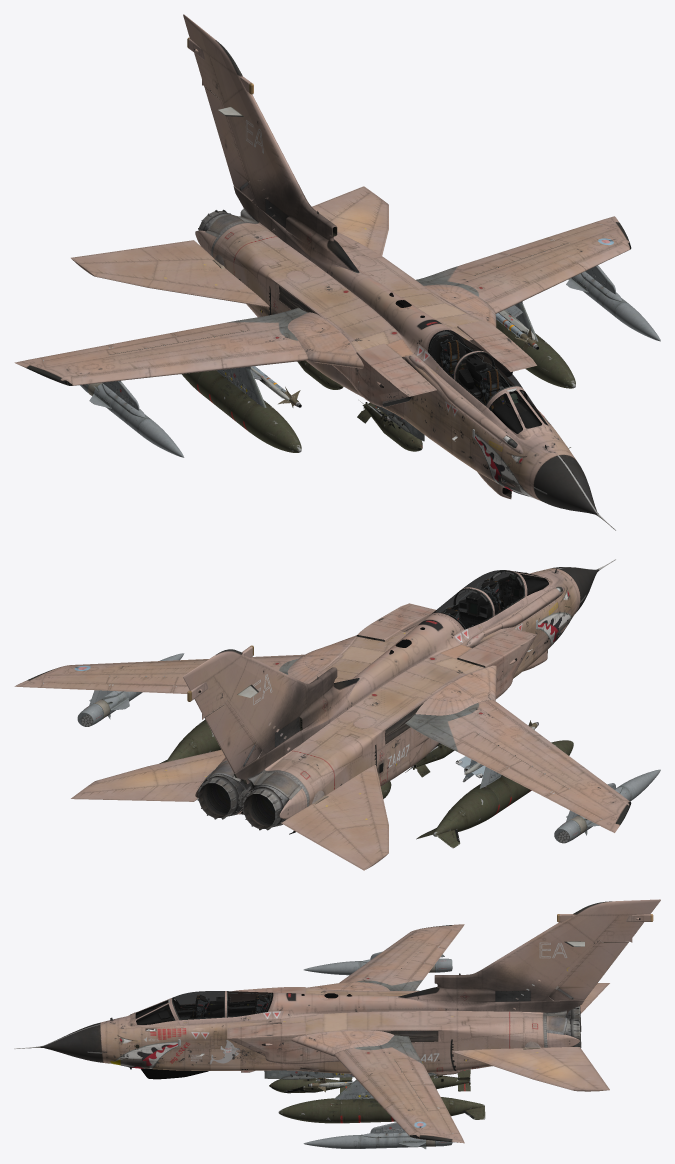
File: panavia_tornado_mig_eater.glb
3 renders of one model, top to bottom at view 1: azimuth 30°, elevation 25°; view 2: azimuth 150°, elevation 25°; view 3: azimuth 270°, elevation 25°, orthographic. The views are drawn at different scales.
Parts seen in each view (by area): view 1: Object_31, Object_30, Object_18, Object_21, Object_22, Object_15, Object_45, Object_39, Object_41, Object_25, Object_34, Object_33 (+7 smaller); view 2: Object_31, Object_30, Object_18, Object_21, Object_22, Object_45, Object_15, Object_39, Object_25, Object_27, Object_41, Object_28 (+12 smaller); view 3: Object_31, Object_30, Object_21, Object_18, Object_15, Object_45, Object_38, Object_28, Object_33, Object_25, Object_35, Object_41 (+6 smaller).
Boxes of the visible parts, <box> form: Object_31: <box>183,14,578,507</box>; Object_30: <box>187,34,615,530</box>; Object_18: <box>14,216,629,385</box>; Object_21: <box>107,186,523,412</box>; Object_22: <box>71,240,477,307</box>; Object_15: <box>71,86,629,385</box>; Object_45: <box>65,49,547,497</box>; Object_39: <box>181,370,301,452</box>; Object_41: <box>431,332,548,433</box>; Object_25: <box>41,222,602,361</box>; Object_34: <box>80,382,184,457</box>; Object_33: <box>566,271,660,341</box>; Object_31: <box>183,567,582,819</box>; Object_30: <box>183,559,615,823</box>; Object_18: <box>14,656,629,832</box>; Object_21: <box>71,570,569,826</box>; Object_22: <box>281,639,411,870</box>; Object_45: <box>198,570,548,692</box>; Object_15: <box>71,654,628,800</box>; Object_39: <box>416,740,573,848</box>; Object_25: <box>41,627,601,822</box>; Object_27: <box>188,586,570,826</box>; Object_41: <box>458,571,548,629</box>; Object_28: <box>187,603,535,826</box>; Object_31: <box>85,899,660,1079</box>; Object_30: <box>14,900,660,1075</box>; Object_21: <box>170,943,609,1091</box>; Object_18: <box>345,924,464,1143</box>; Object_15: <box>334,931,628,1135</box>; Object_45: <box>135,918,640,1069</box>; Object_38: <box>278,1097,485,1123</box>; Object_28: <box>129,914,653,1074</box>; Object_33: <box>303,1132,452,1149</box>; Object_25: <box>130,929,459,1133</box>; Object_35: <box>269,1069,470,1093</box>; Object_41: <box>136,994,272,1024</box>.
Size of the model in its own units: 13.92 by 5.46 by 17.36.
Materials: 19 (12 with a texture image).
